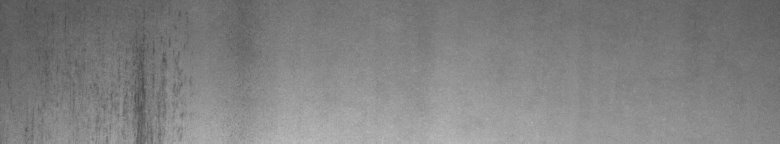ka: (25, 12, 187, 136)
